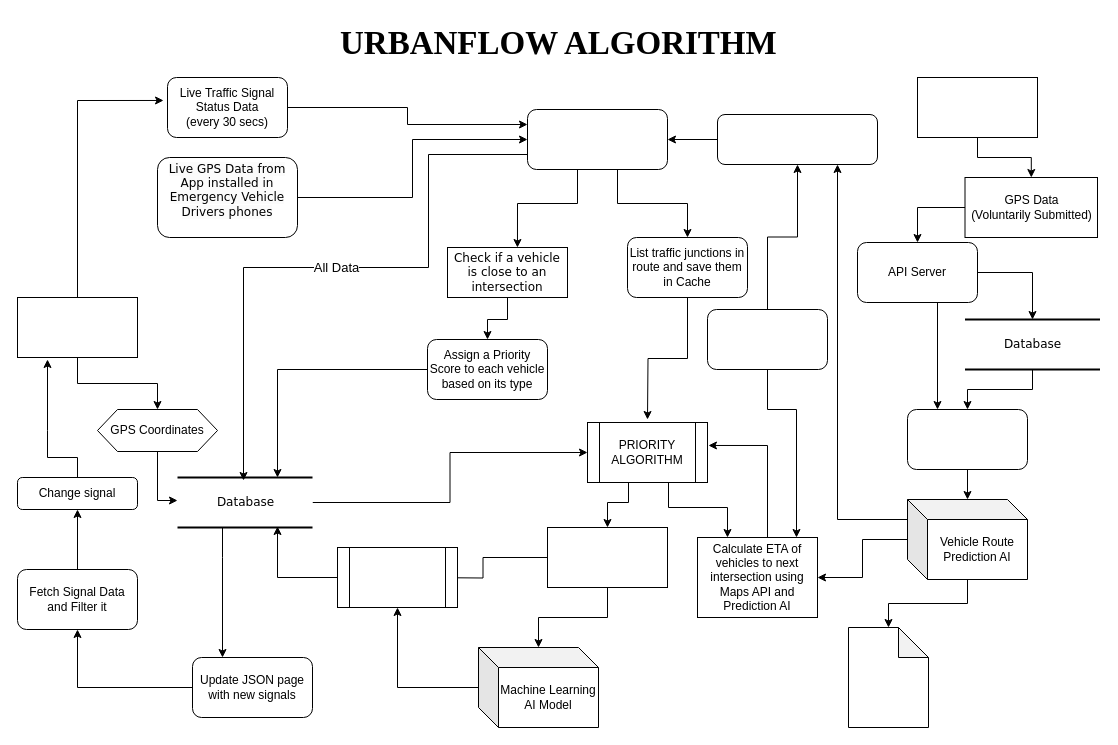
The diagram is 1118 pixels wide and 745 high, and some of its shapes have lost their labels. Here are the shapes that lost their labels. From the top down, the box of each, then its label:
(916, 76, 1038, 138): Voluntary Data Collector (Android App)
(526, 108, 668, 170): UrbanFlow Server
(716, 114, 878, 164): Emergency Vehicle Routes
(16, 296, 138, 358): TRAFFIC SIGNALS
(706, 308, 828, 370): Google Maps API
(906, 408, 1028, 470): Download and Process Data
(336, 546, 458, 608): Schedule signal change
(546, 526, 668, 588): Check associated weights and vehicles at each intersection
(848, 626, 928, 728): Save Best Models
